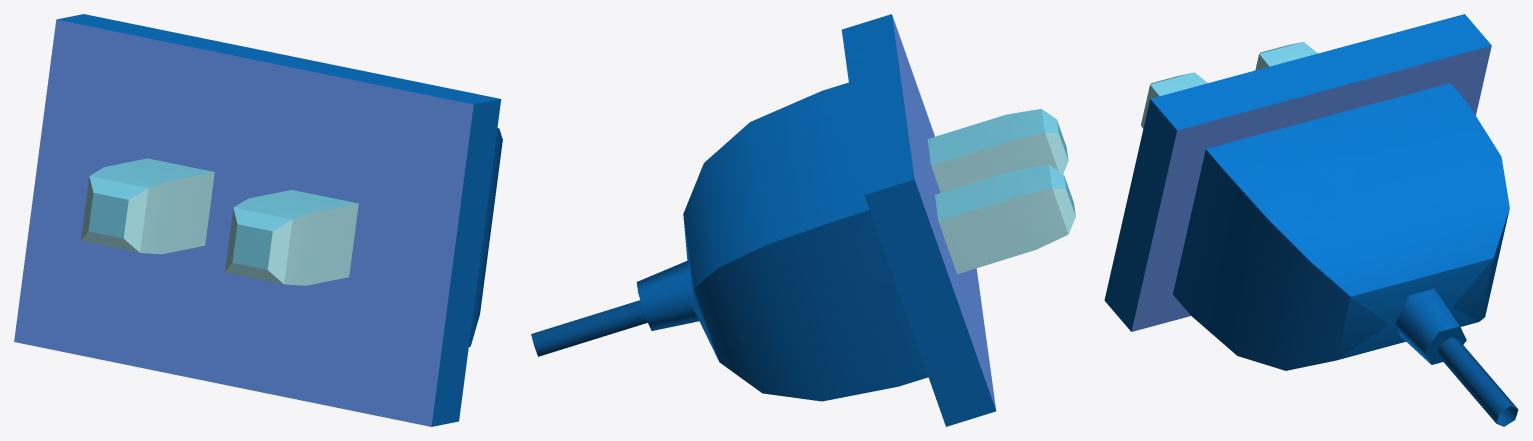
The model's file is SM_Enchufe.fbx.
3 renders of one model, left to right at view 1: azimuth 30°, elevation 25°; view 2: azimuth 150°, elevation 25°; view 3: azimuth 270°, elevation 25°, orthographic. The views are drawn at different scales.
Visible parts, largest first — view 1: SM_Enchufe; view 2: SM_Enchufe; view 3: SM_Enchufe.
Boxes of the visible parts, box(x1,y1,x2,y2) form: SM_Enchufe: box(14, 14, 502, 426); SM_Enchufe: box(531, 14, 1075, 426); SM_Enchufe: box(1104, 14, 1518, 426).
Size of the model in its own units: 13.35 by 7.44 by 11.33.
